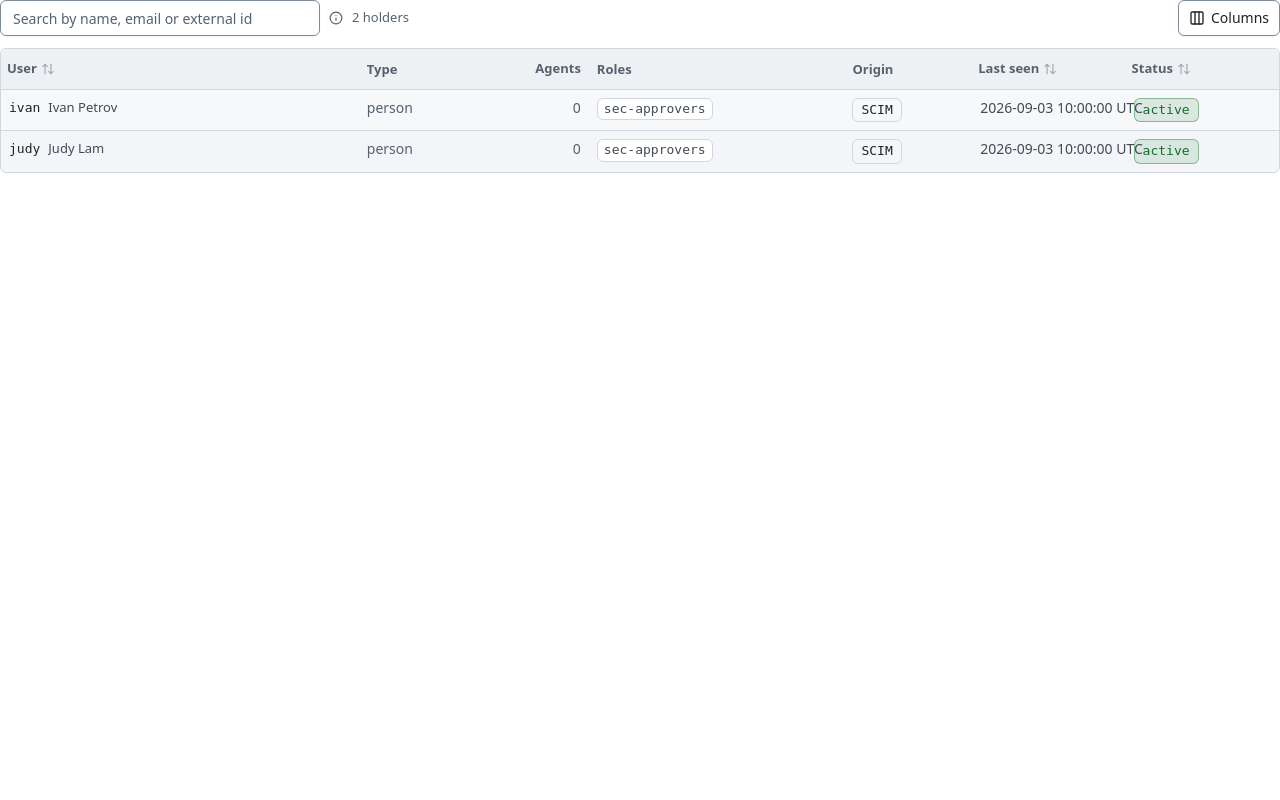
the Holders tab › opens the person's own sheet from a row
This screenshot has width=1280, height=800.
Click the button with aria-label "Open ivan" at (640, 110), box [1, 89, 1279, 131]
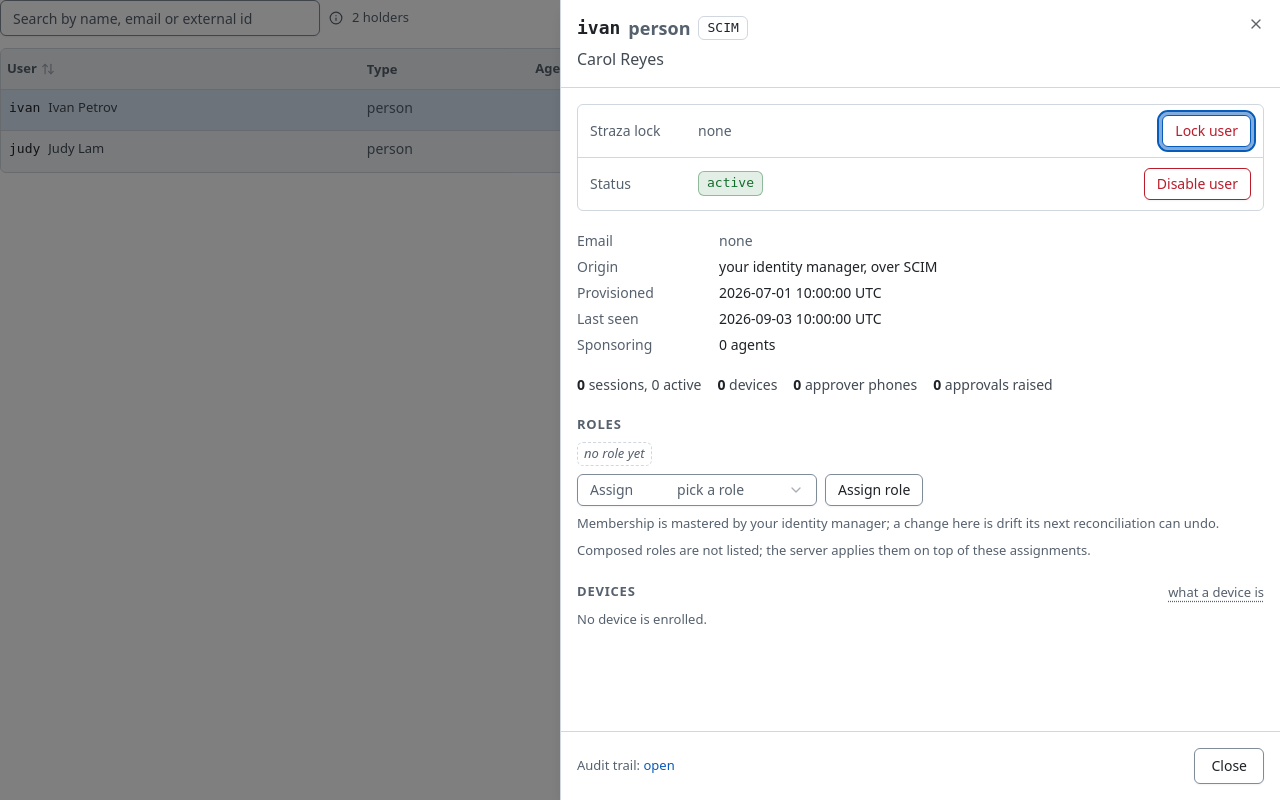
Expected: the text "ivan" is shown, [577, 16, 620, 41]
